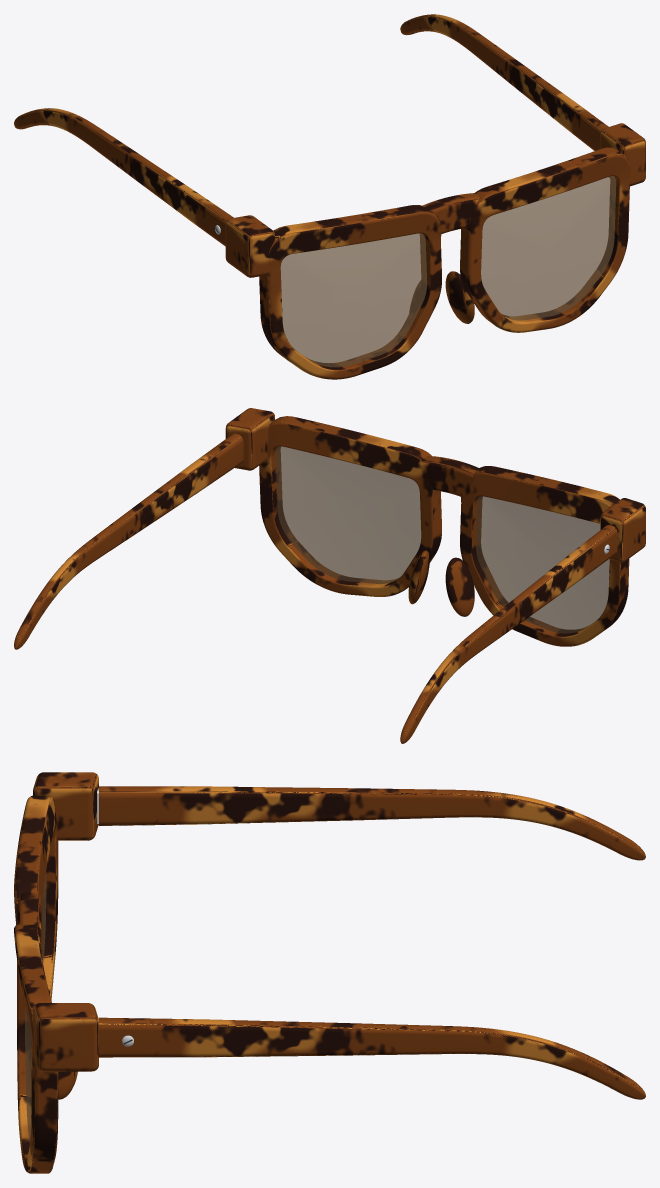
File: wayfarer_carey_cafe.glb
3 views of the same model, one above another, from view 1: azimuth 30°, elevation 25°; view 2: azimuth 150°, elevation 25°; view 3: azimuth 270°, elevation 25° (orthographic). The views are drawn at different scales.
Parts seen in each view (by area): view 1: frente, temple_R, temple_L; view 2: frente, temple_L, temple_R; view 3: frente, temple_R, temple_L.
Part boxes in pixels (box(x1,y1,x2,y2)): frente: box(225, 123, 645, 379); temple_R: box(14, 108, 233, 246); temple_L: box(400, 14, 608, 150); frente: box(225, 408, 645, 646); temple_L: box(14, 433, 243, 649); temple_R: box(400, 525, 617, 743); frente: box(14, 772, 98, 1173); temple_R: box(97, 786, 645, 860); temple_L: box(99, 1017, 645, 1099).
Size of the model in its own units: 0.1401 by 0.0545 by 0.1512.
Materials: 4 (1 with a texture image).
